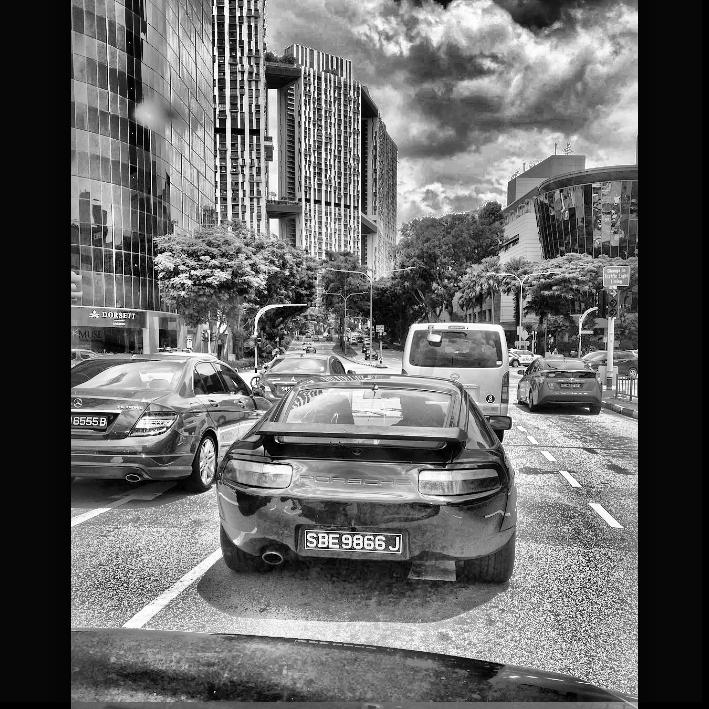License-Plates: (305, 531, 400, 552), (70, 416, 106, 426), (560, 383, 580, 387), (279, 386, 299, 390)
